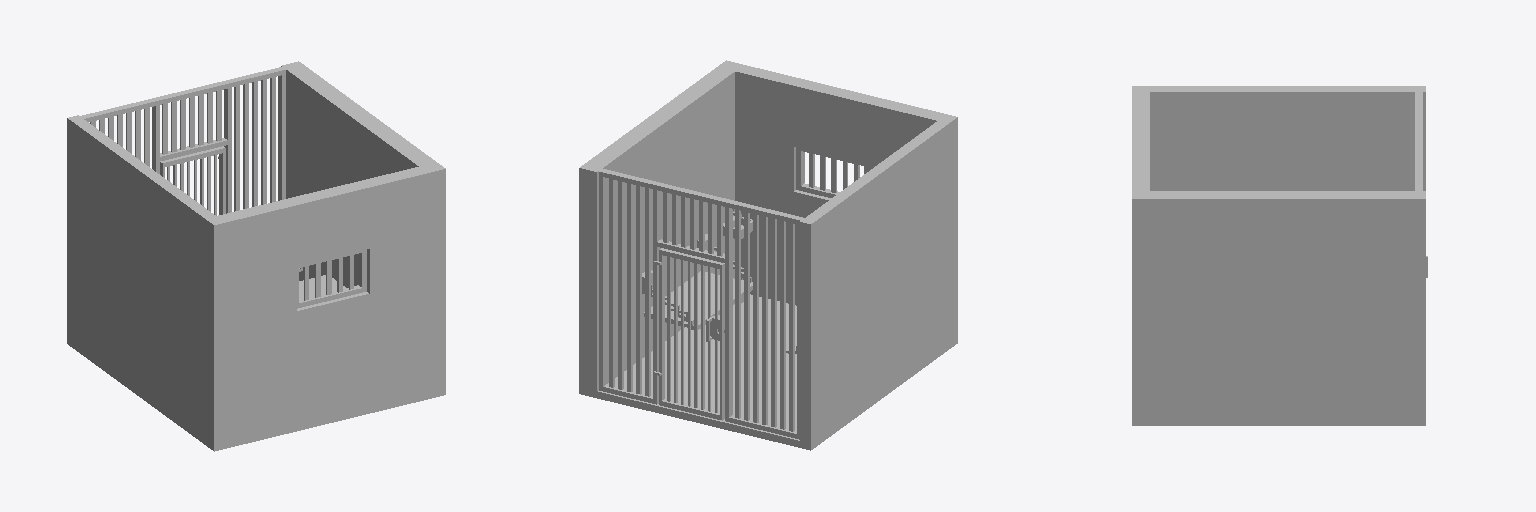
The model's file is jail scene.obj.
3 views of the same model, side by side, from view 1: azimuth 30°, elevation 25°; view 2: azimuth 150°, elevation 25°; view 3: azimuth 270°, elevation 25° (orthographic).
Visible parts, largest first — view 1: object 1; view 2: object 1; view 3: object 1.
Boxes of the visible parts, <box> form: object 1: <box>67,61,445,451</box>; object 1: <box>579,60,957,450</box>; object 1: <box>1132,86,1427,425</box>.
Bounding box in the file's own units: 10.3 × 9.6 × 11.4.